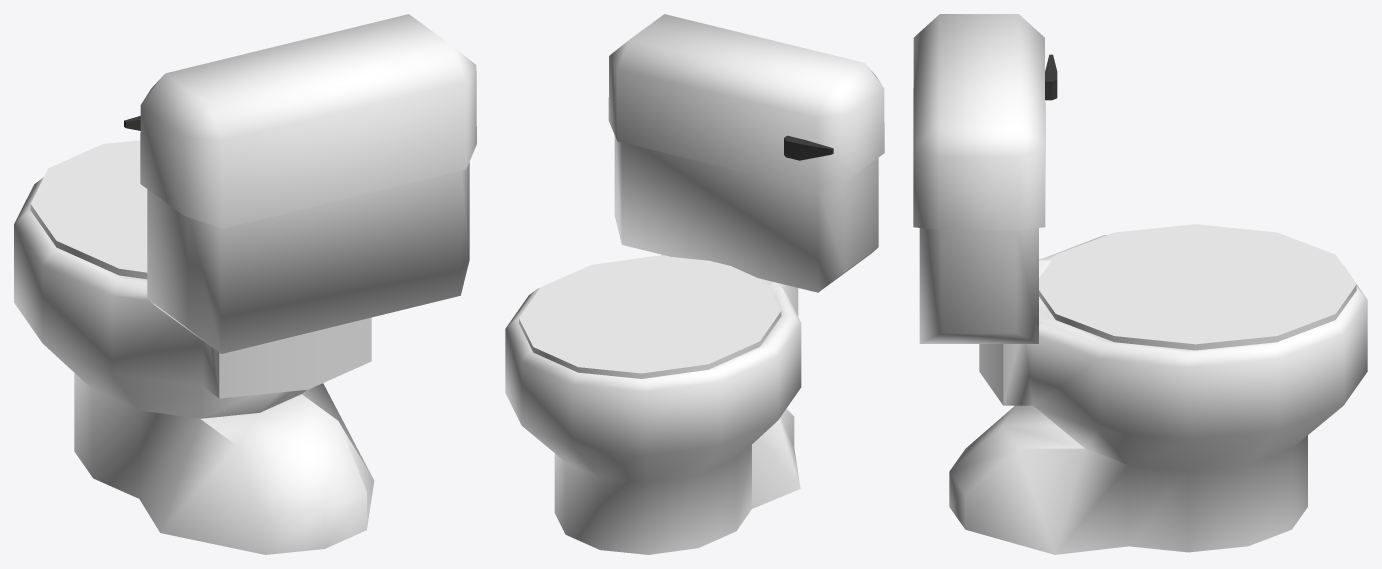
The model's file is inodoro.glb.
3 renders of one model, left to right at view 1: azimuth 30°, elevation 25°; view 2: azimuth 150°, elevation 25°; view 3: azimuth 270°, elevation 25°, orthographic. The views are drawn at different scales.
Visible parts, largest first — view 1: inodoro; view 2: inodoro; view 3: inodoro.
Part boxes in pixels (x1=…): inodoro: x1=14, y1=14, x2=476, y2=554; inodoro: x1=505, y1=14, x2=884, y2=554; inodoro: x1=913, y1=14, x2=1367, y2=554.
Bounding box in the file's own units: 0.8748 × 1.31 × 1.23.
Materials: 1 (1 with a texture image).
